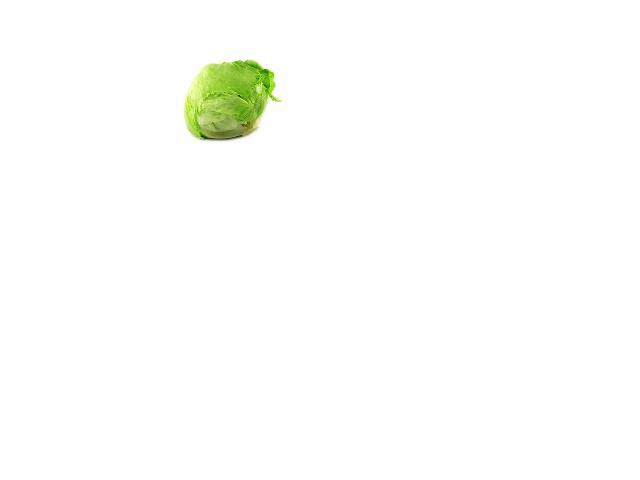lettuce: (180, 56, 271, 143)
